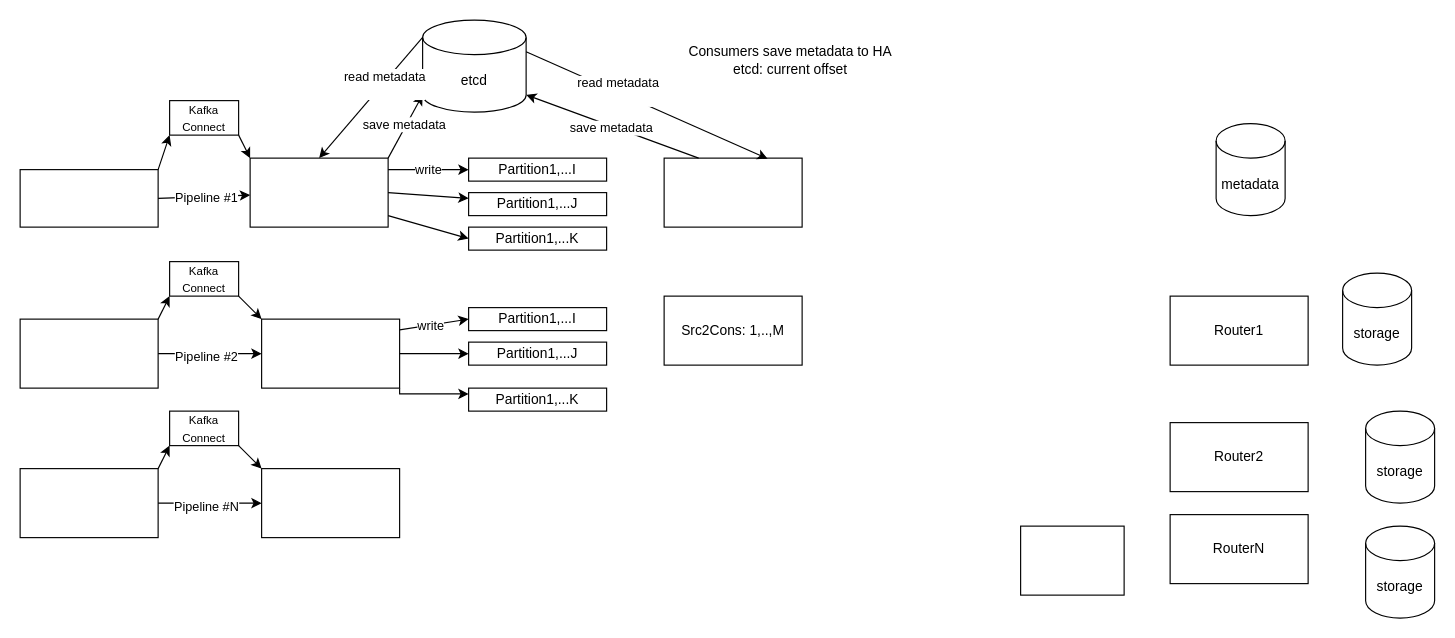
The diagram is 1455 pixels wide and 638 high, and some of its shapes have lost their labels. Here are the shapes that lost their labels. From the top down, the centre of each, then its label:
the point at 88,197: Src1
the point at 318,192: Kafka Brokers: 1,..M
the point at 732,192: Src1Cons: 1,..M
the point at 88,353: Src2
the point at 330,353: Kafka Brokers: 1,..N
the point at 88,502: SrcN
the point at 330,502: Kafka Brokers: 1,..O
the point at 1071,560: LB
